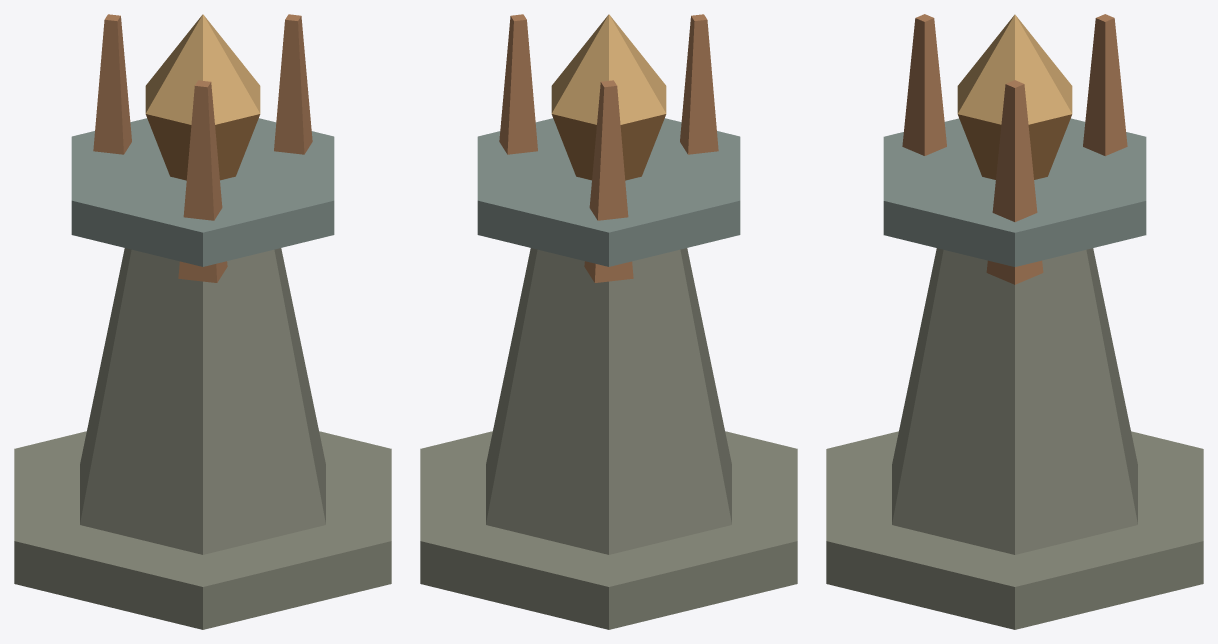
The model's file is cinderSpire.glb.
3 renders of one model, left to right at view 1: azimuth 30°, elevation 25°; view 2: azimuth 150°, elevation 25°; view 3: azimuth 270°, elevation 25°, orthographic.
Visible parts, largest first — view 1: Building; view 2: Building; view 3: Building.
Part boxes in pixels (x1=…): Building: x1=14, y1=14, x2=391, y2=629; Building: x1=420, y1=14, x2=797, y2=629; Building: x1=826, y1=14, x2=1203, y2=629.
Bounding box in the file's own units: 46 × 61 × 39.84.
